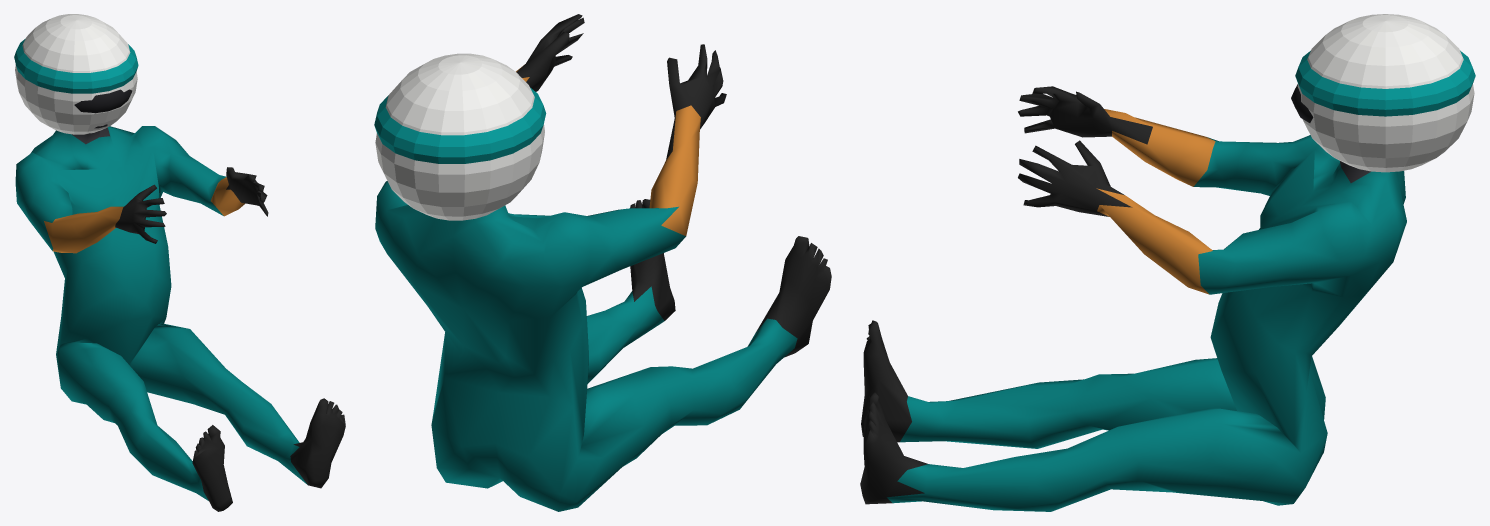
File: driver_61.glb
3 views of the same model, side by side, from view 1: azimuth 30°, elevation 25°; view 2: azimuth 150°, elevation 25°; view 3: azimuth 270°, elevation 25° (orthographic). The views are drawn at different scales.
Parts seen in each view (by area): view 1: driver_61 people, driver_61; view 2: driver_61 people, driver_61; view 3: driver_61 people, driver_61.
Boxes of the visible parts, x1,y1,x2,y2 form: driver_61 people: (15,124,345,511); driver_61: (14,14,138,134); driver_61 people: (375,14,831,511); driver_61: (374,53,546,220); driver_61 people: (860,86,1406,511); driver_61: (1291,14,1475,172).
Bounding box in the file's own units: 0.5243 × 0.9272 × 1.12.
